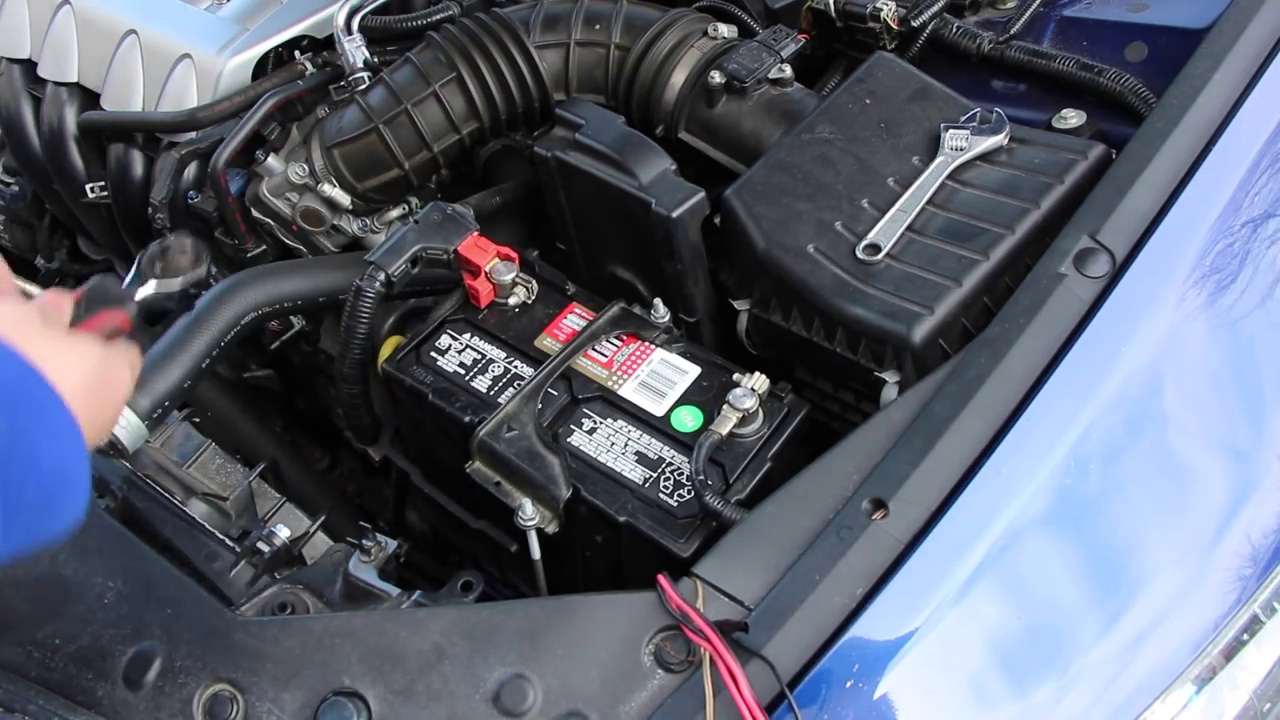battery: (375, 245, 794, 559)
neg_connected: (690, 359, 787, 498)
pos_connected: (411, 198, 544, 322)
